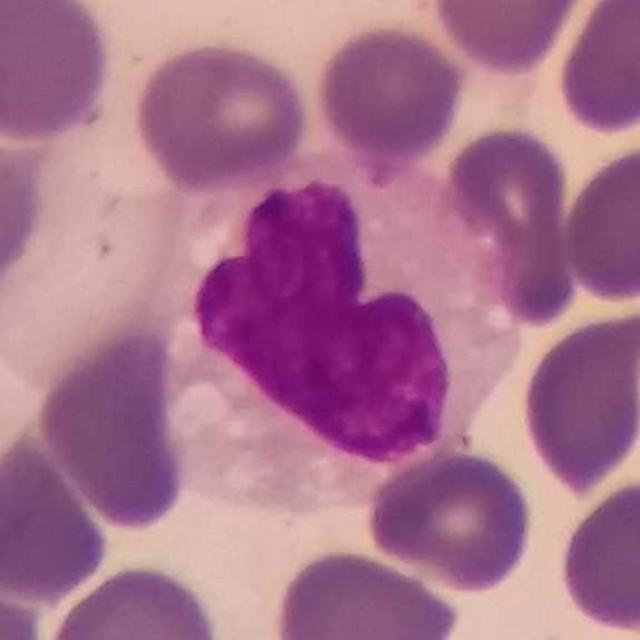Monocyte: (62, 151, 520, 511)
RBC: (32, 328, 196, 533), (437, 118, 579, 328), (128, 34, 314, 192), (362, 446, 538, 594), (515, 303, 640, 496), (310, 19, 470, 165), (0, 432, 114, 605), (268, 543, 465, 640), (0, 0, 117, 145), (40, 558, 225, 640), (553, 474, 640, 636), (558, 137, 640, 308), (428, 0, 592, 76), (552, 0, 640, 139), (0, 107, 49, 303), (0, 575, 49, 640)
